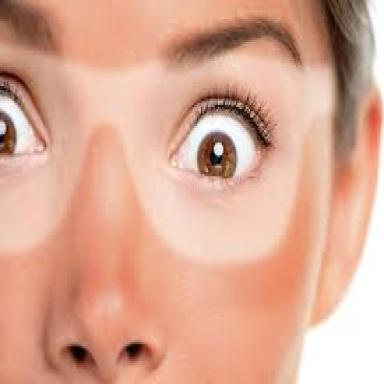burn: (0, 92, 378, 382), (0, 0, 344, 65)
